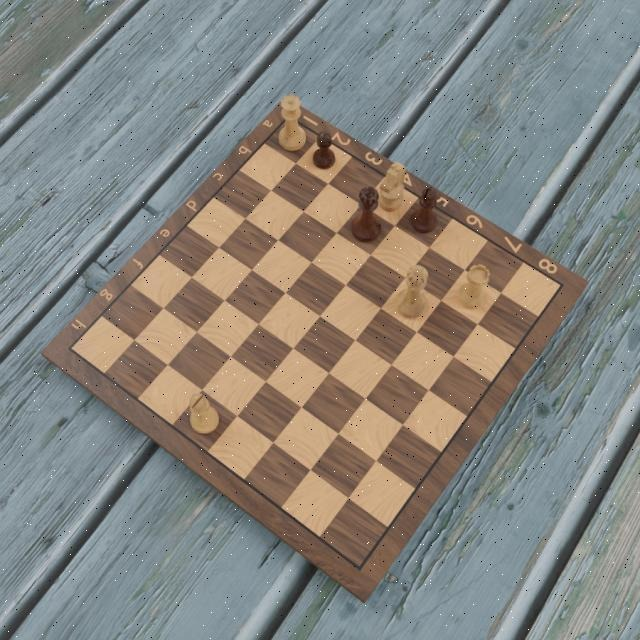black-bishop: (408, 185, 439, 235)
black-king: (347, 184, 384, 246)
black-pawn: (309, 129, 336, 171)
white-bishop: (187, 392, 221, 435)
white-king: (393, 262, 431, 320)
white-knight: (376, 159, 408, 212)
white-queen: (275, 91, 308, 153)
white-rook: (456, 264, 492, 312)
